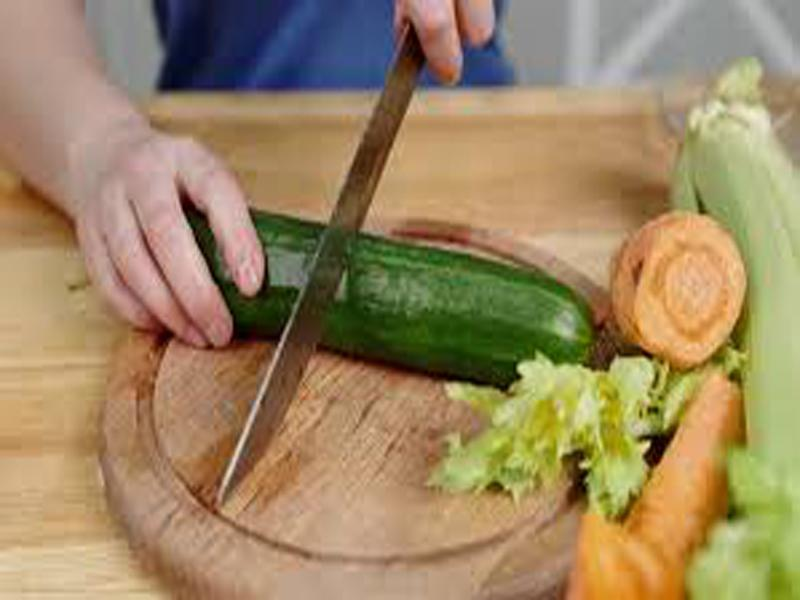Cucumber: (185, 207, 597, 379)
